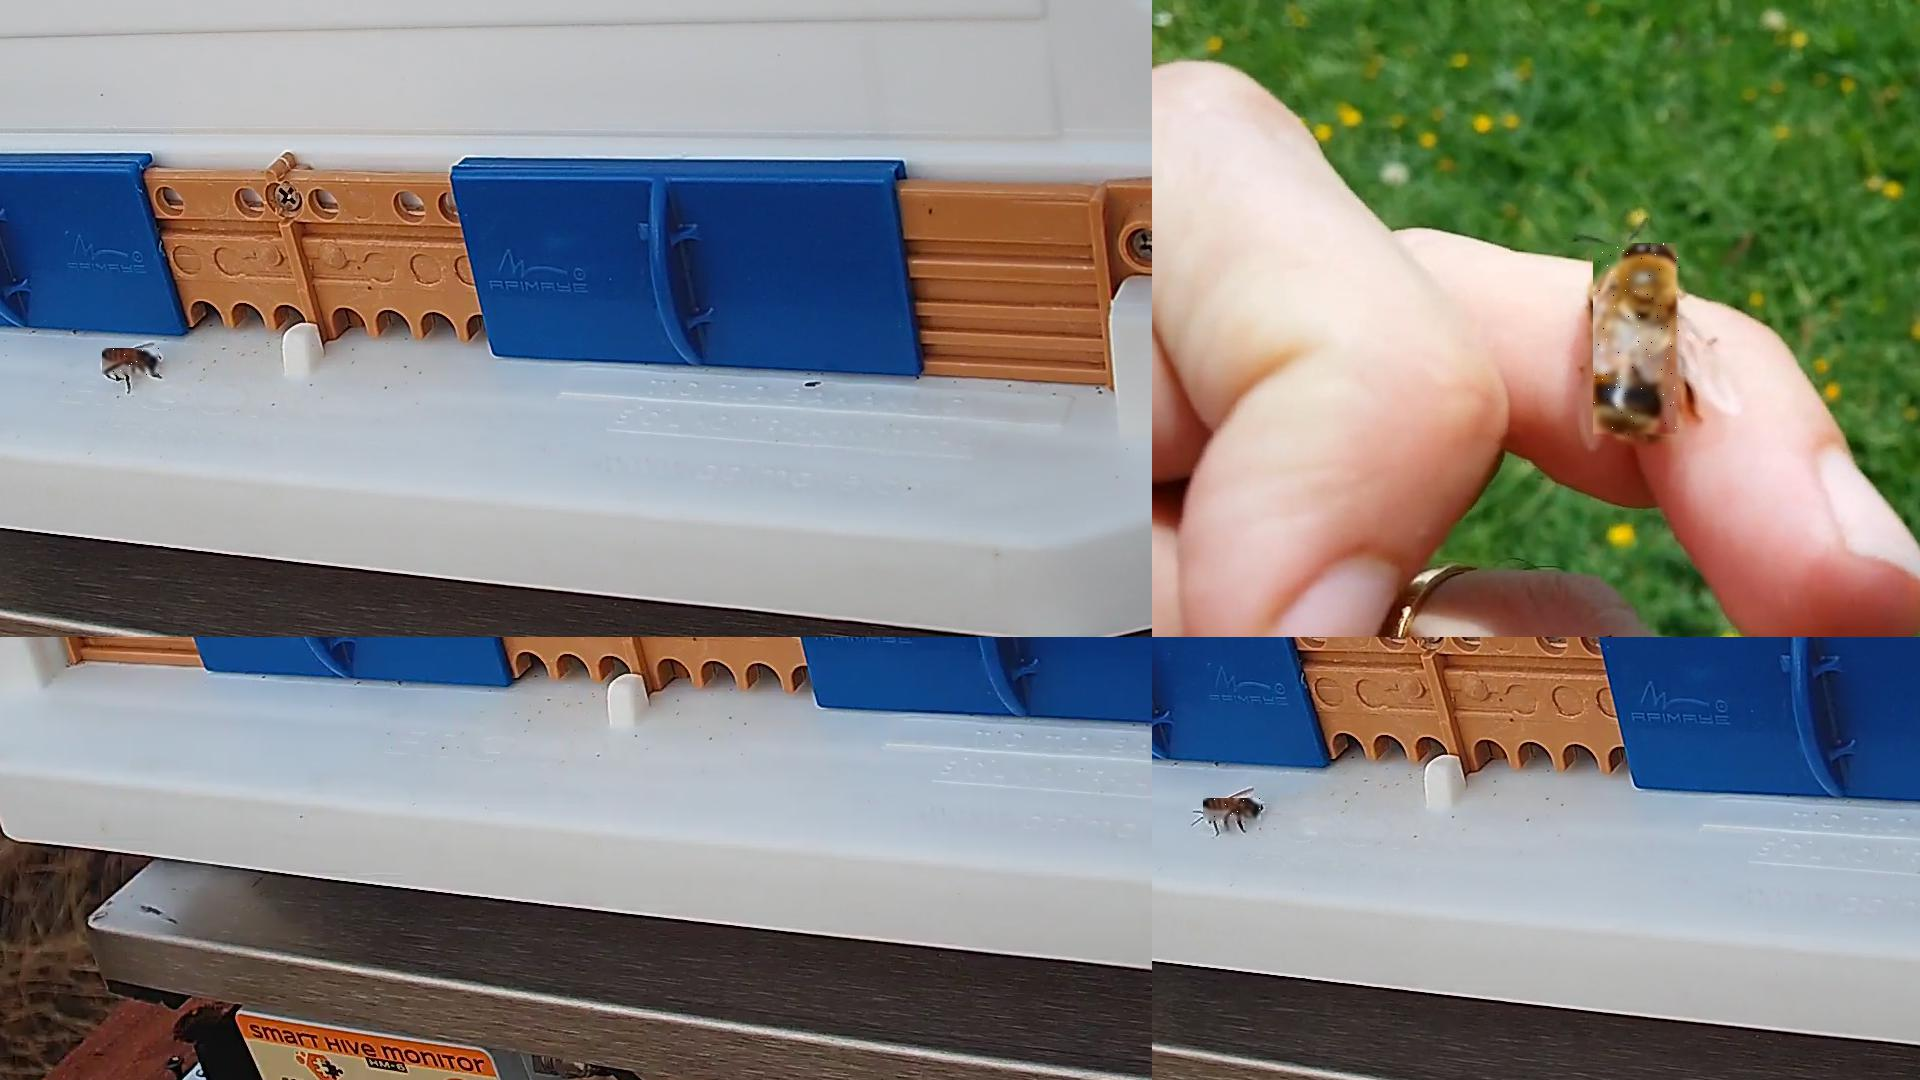bee: (103, 349, 162, 378), (1204, 799, 1262, 824)
drone: (1593, 244, 1681, 439)
